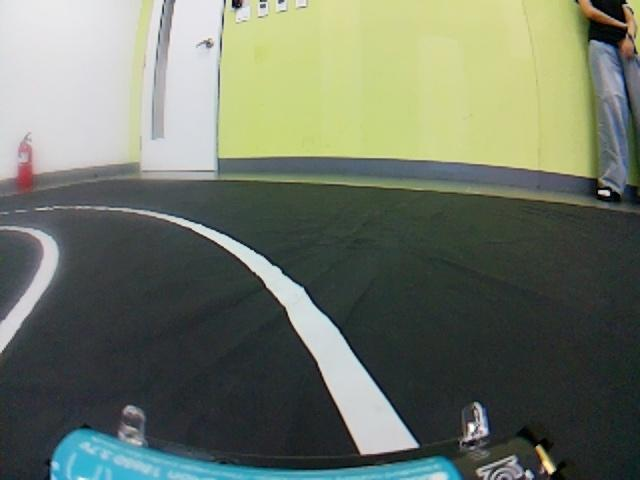left: (0, 198, 457, 478)
